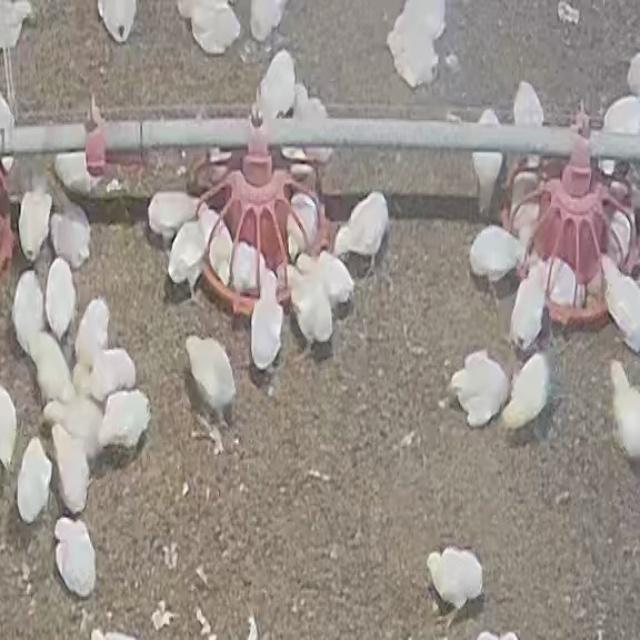chicken: (448, 348, 512, 438), (180, 332, 238, 428), (332, 190, 390, 271), (286, 257, 336, 348), (500, 350, 553, 432), (426, 546, 484, 620), (248, 265, 287, 373), (49, 421, 92, 513), (27, 330, 77, 406), (52, 516, 98, 598), (600, 257, 640, 351), (508, 267, 550, 355), (166, 217, 212, 296), (98, 387, 152, 454), (468, 224, 524, 287), (49, 187, 91, 269), (15, 435, 54, 523), (17, 181, 53, 262), (12, 270, 45, 358), (44, 257, 78, 341), (256, 50, 294, 124), (146, 188, 200, 240), (284, 186, 321, 258), (314, 249, 356, 311), (543, 256, 583, 311), (511, 195, 544, 252), (508, 167, 540, 223), (230, 241, 262, 296), (608, 209, 633, 265)
